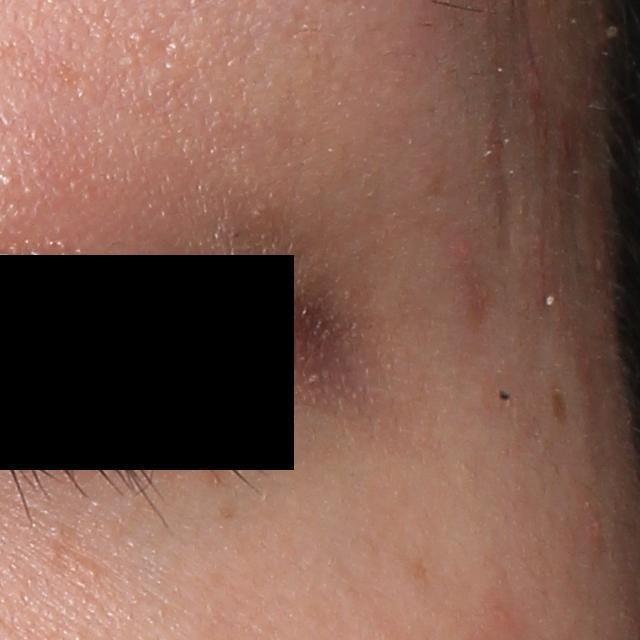atrophic_scar: (492, 103, 526, 263)
melasma: (202, 446, 230, 494), (550, 385, 570, 424)
nevus: (495, 383, 515, 402)
